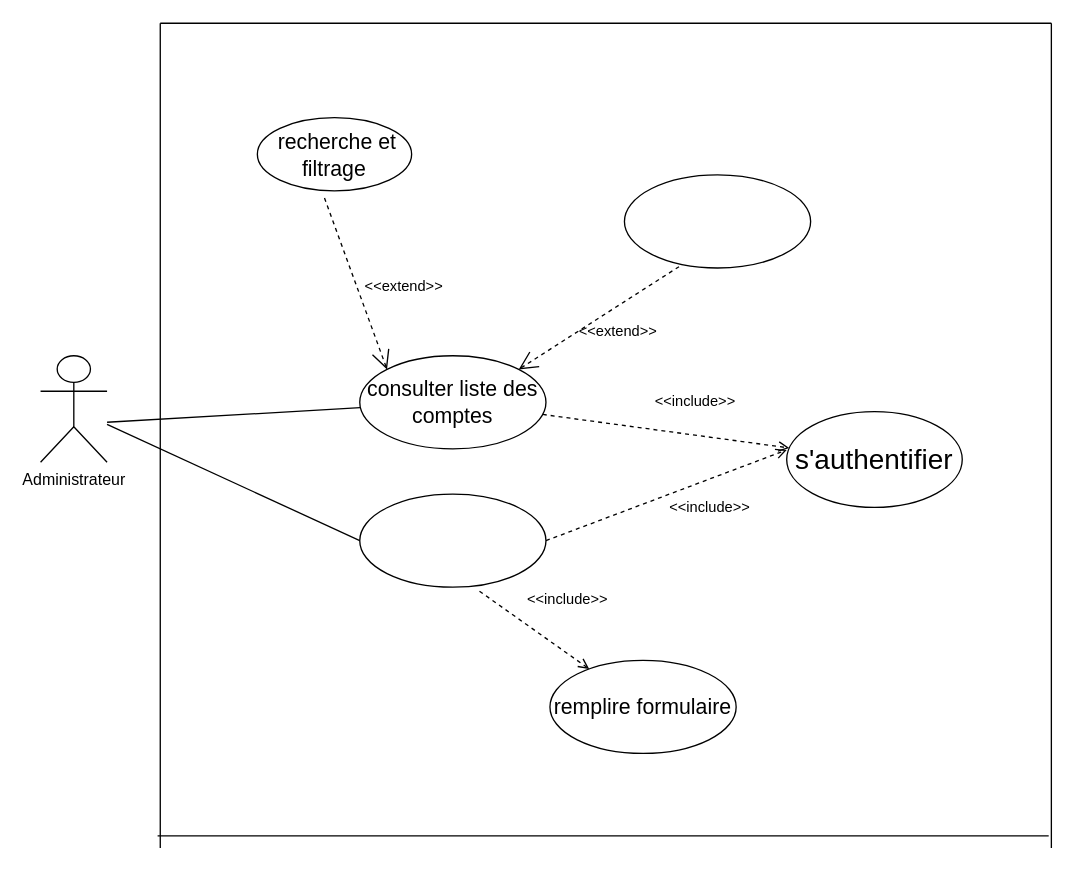
Image size: 1076x872. Some labels were removed from this diagram. The shapes that lost their labels are listed below. From the top down, each one's centre as x and y in pixels, then its label:
At (x=717, y=221): "Activer/désactiver compte".
At (x=452, y=540): "Ajouter nouveau compte".
